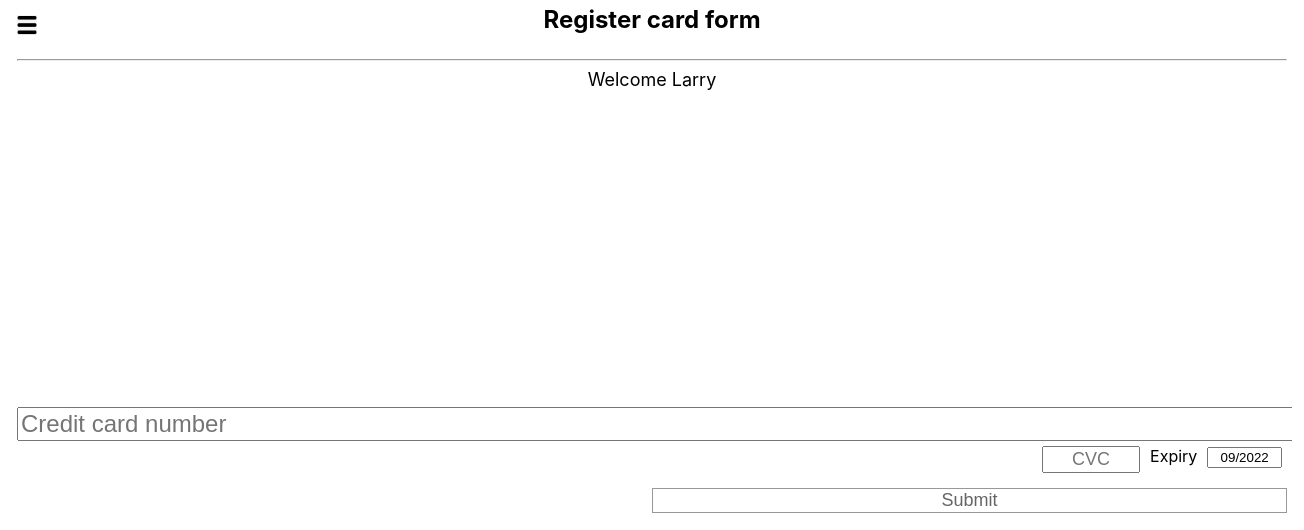
Test case: Cvc number should handle user input correctly
Step 1. Type "1 2 3 a" into the field with placeholder "CVC" → (1091, 460), box [1042,446,1140,473]
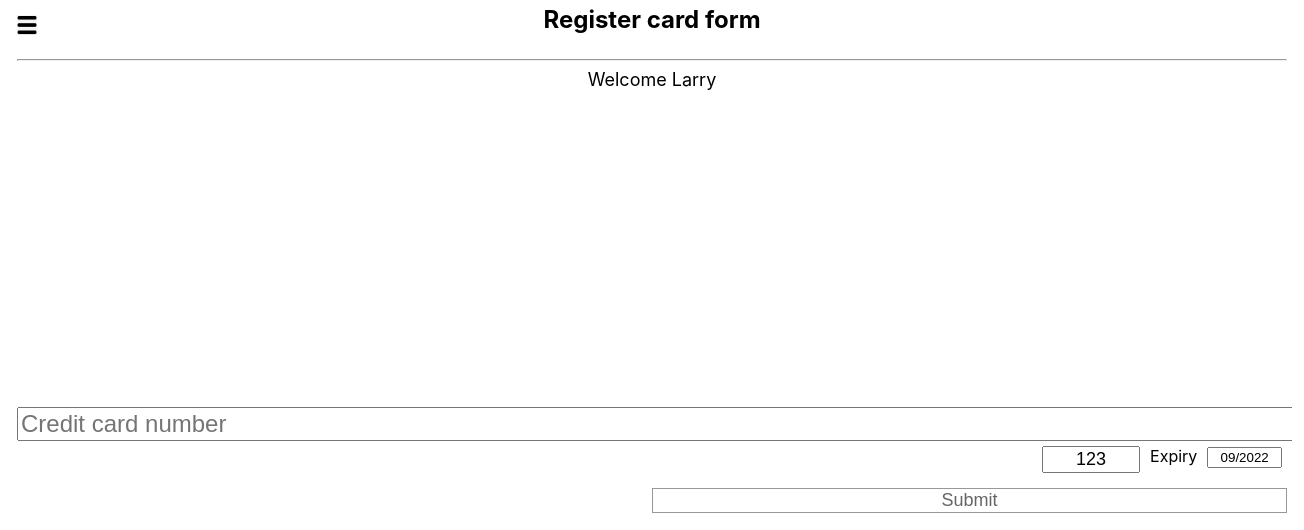
Expected: the 1st field with placeholder "CVC" holds "123", [1042,446,1140,473]
